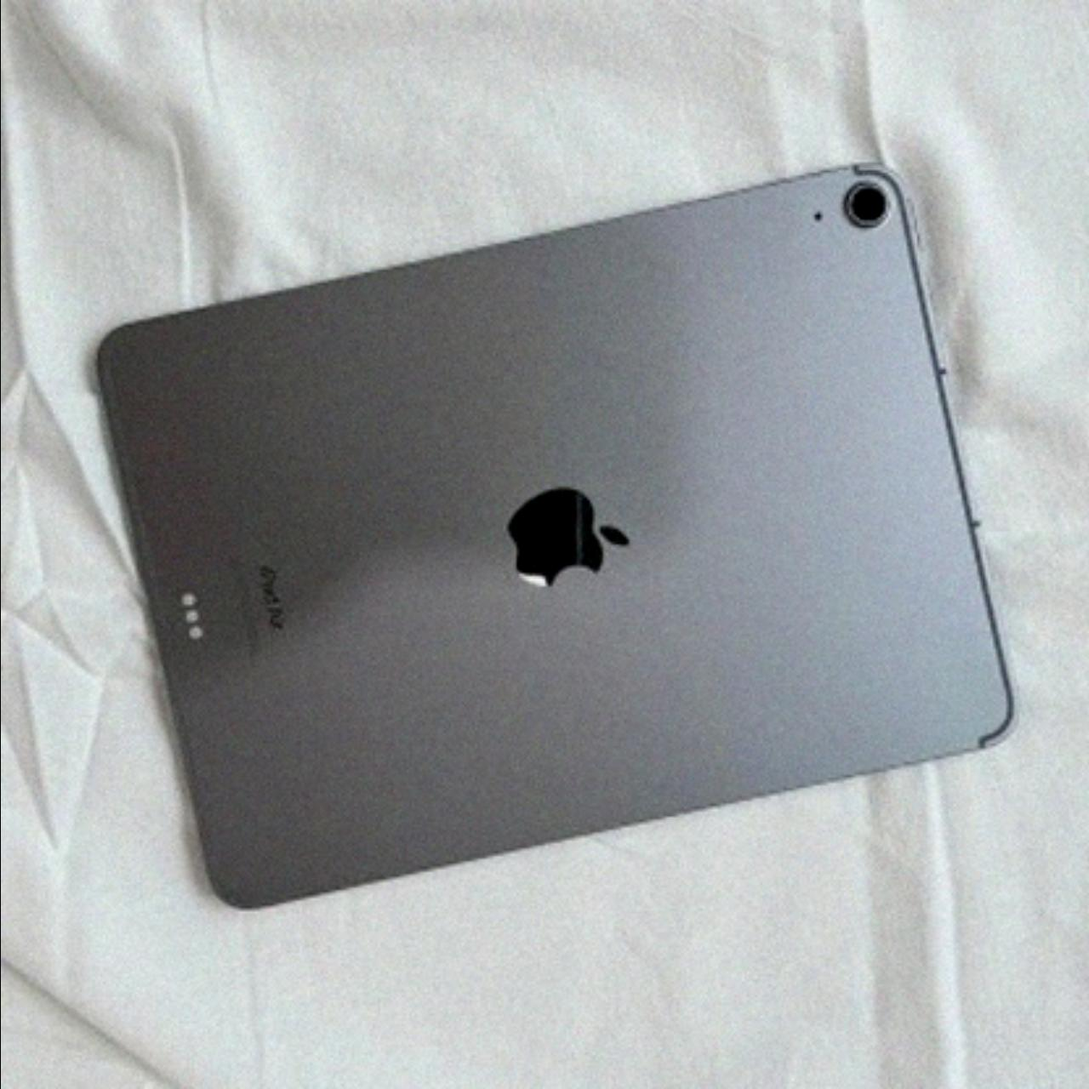Tablet_PC: (86, 152, 1018, 929)
